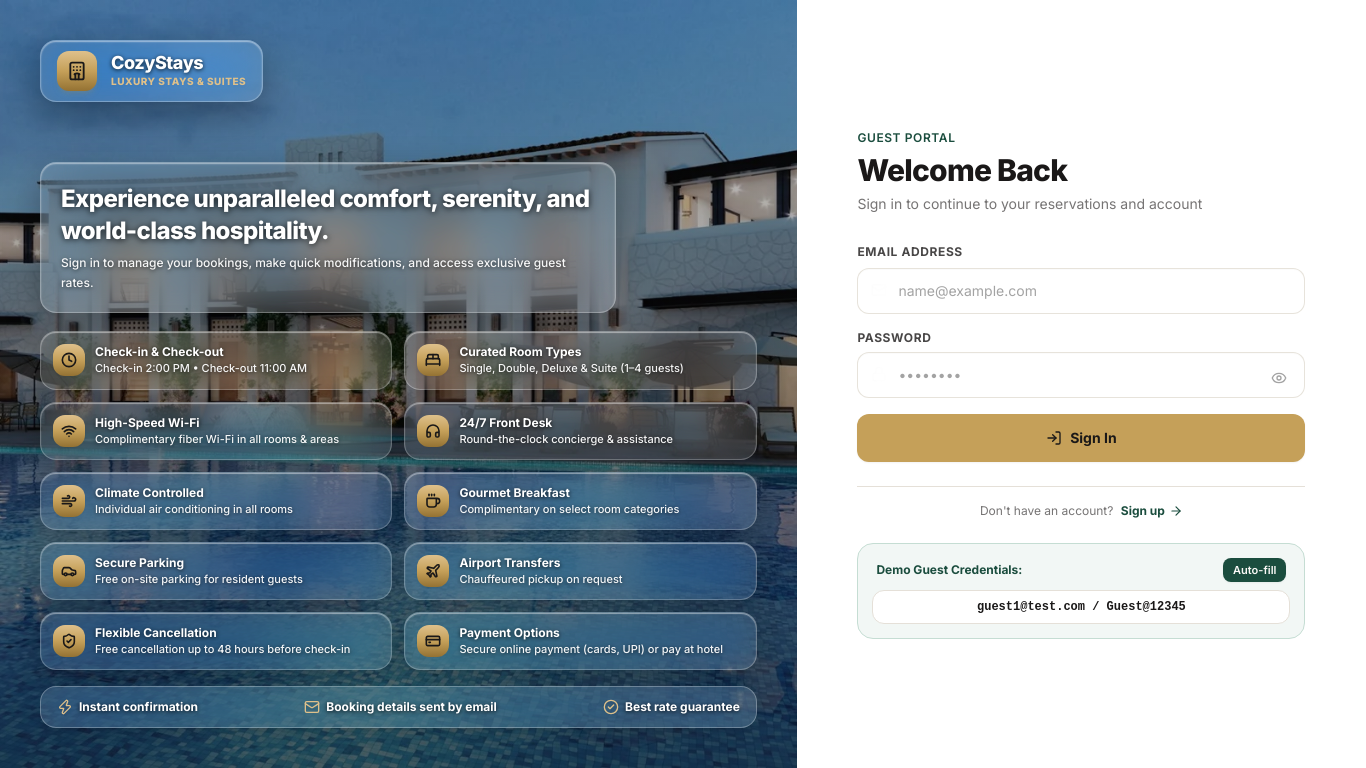
Test case: Login Page › shows validation errors for invalid inputs
Click the button "Sign In" at {"x": 1081, "y": 438}, box x1=857 y1=414 x2=1305 y2=462
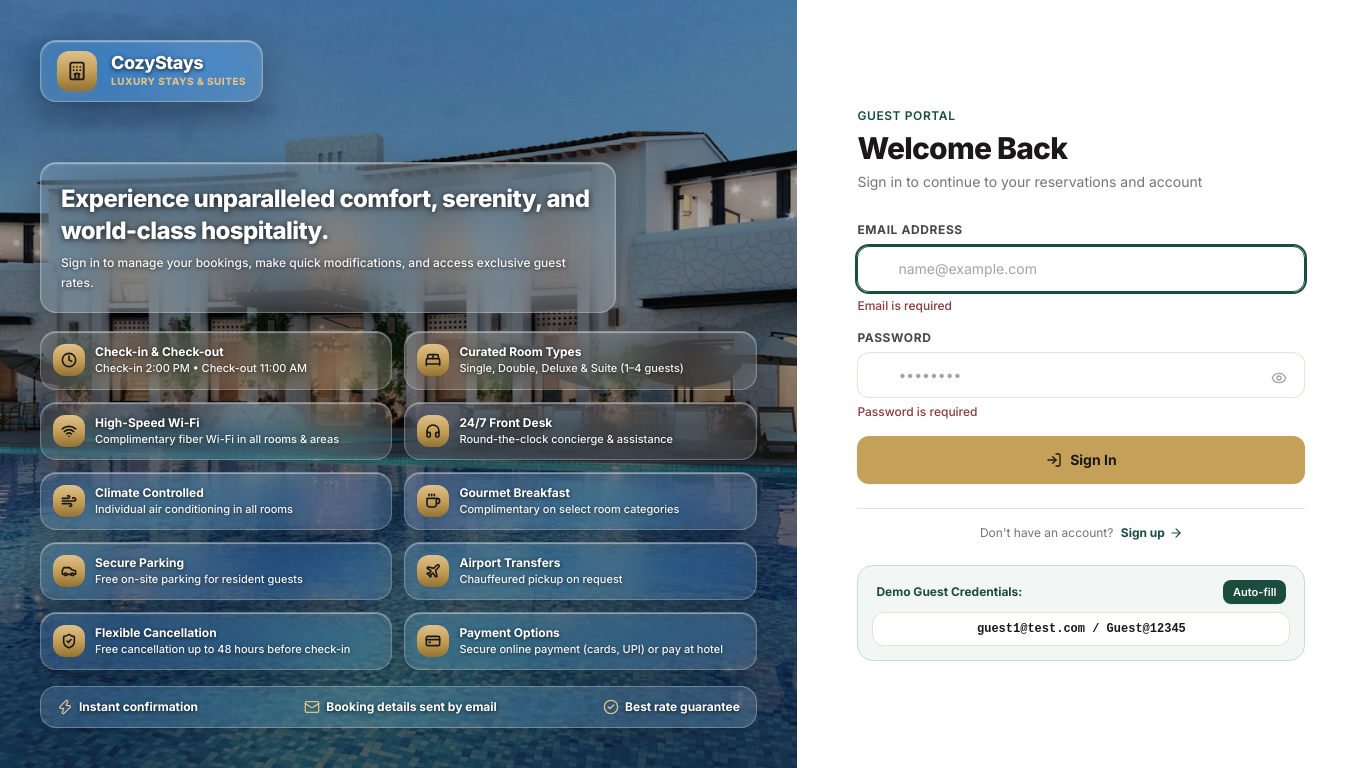
Now the text "Email is required" is shown, box x1=857 y1=298 x2=952 y2=312
Now the text "Password is required" is shown, box x1=857 y1=404 x2=978 y2=418
